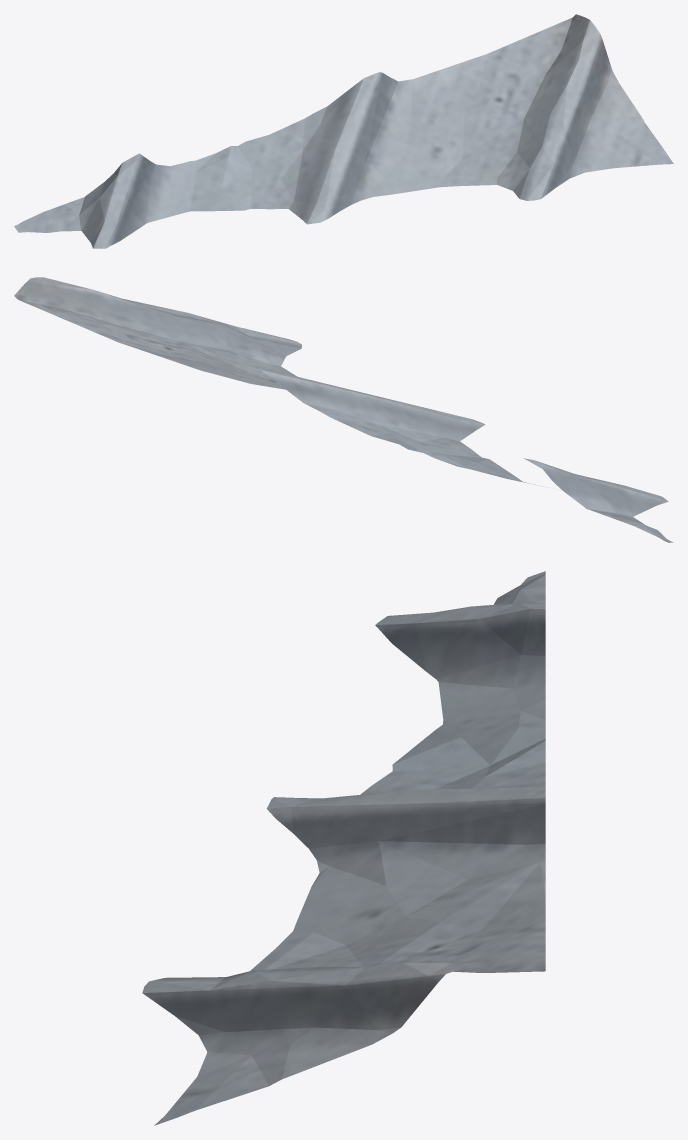
The picture shows the model from 3 angles, top to bottom: view 1: azimuth 30°, elevation 25°; view 2: azimuth 150°, elevation 25°; view 3: azimuth 270°, elevation 25°; orthographic projection. The views are drawn at different scales.
Bounding box in the file's own units: 0.8374 × 0.1179 × 0.2604.
1 material, 1 textured.
